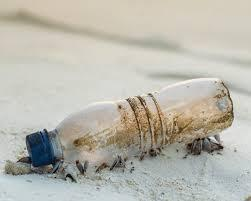Plastic: (25, 78, 235, 171)
